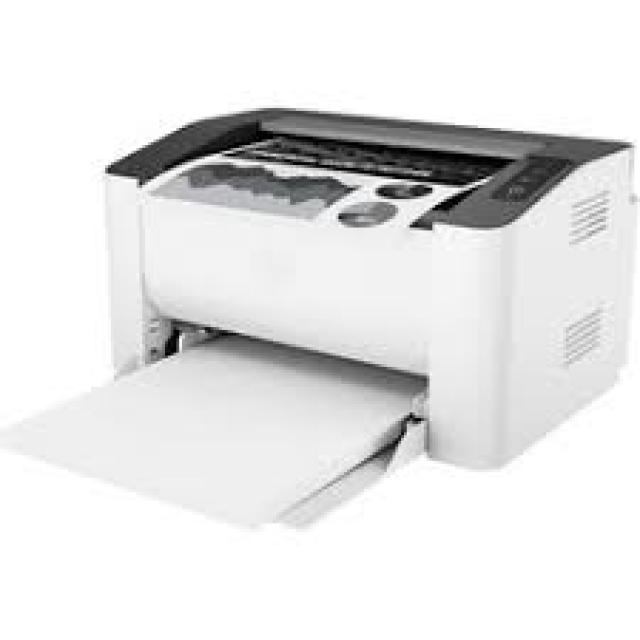printer: (3, 102, 640, 529)
